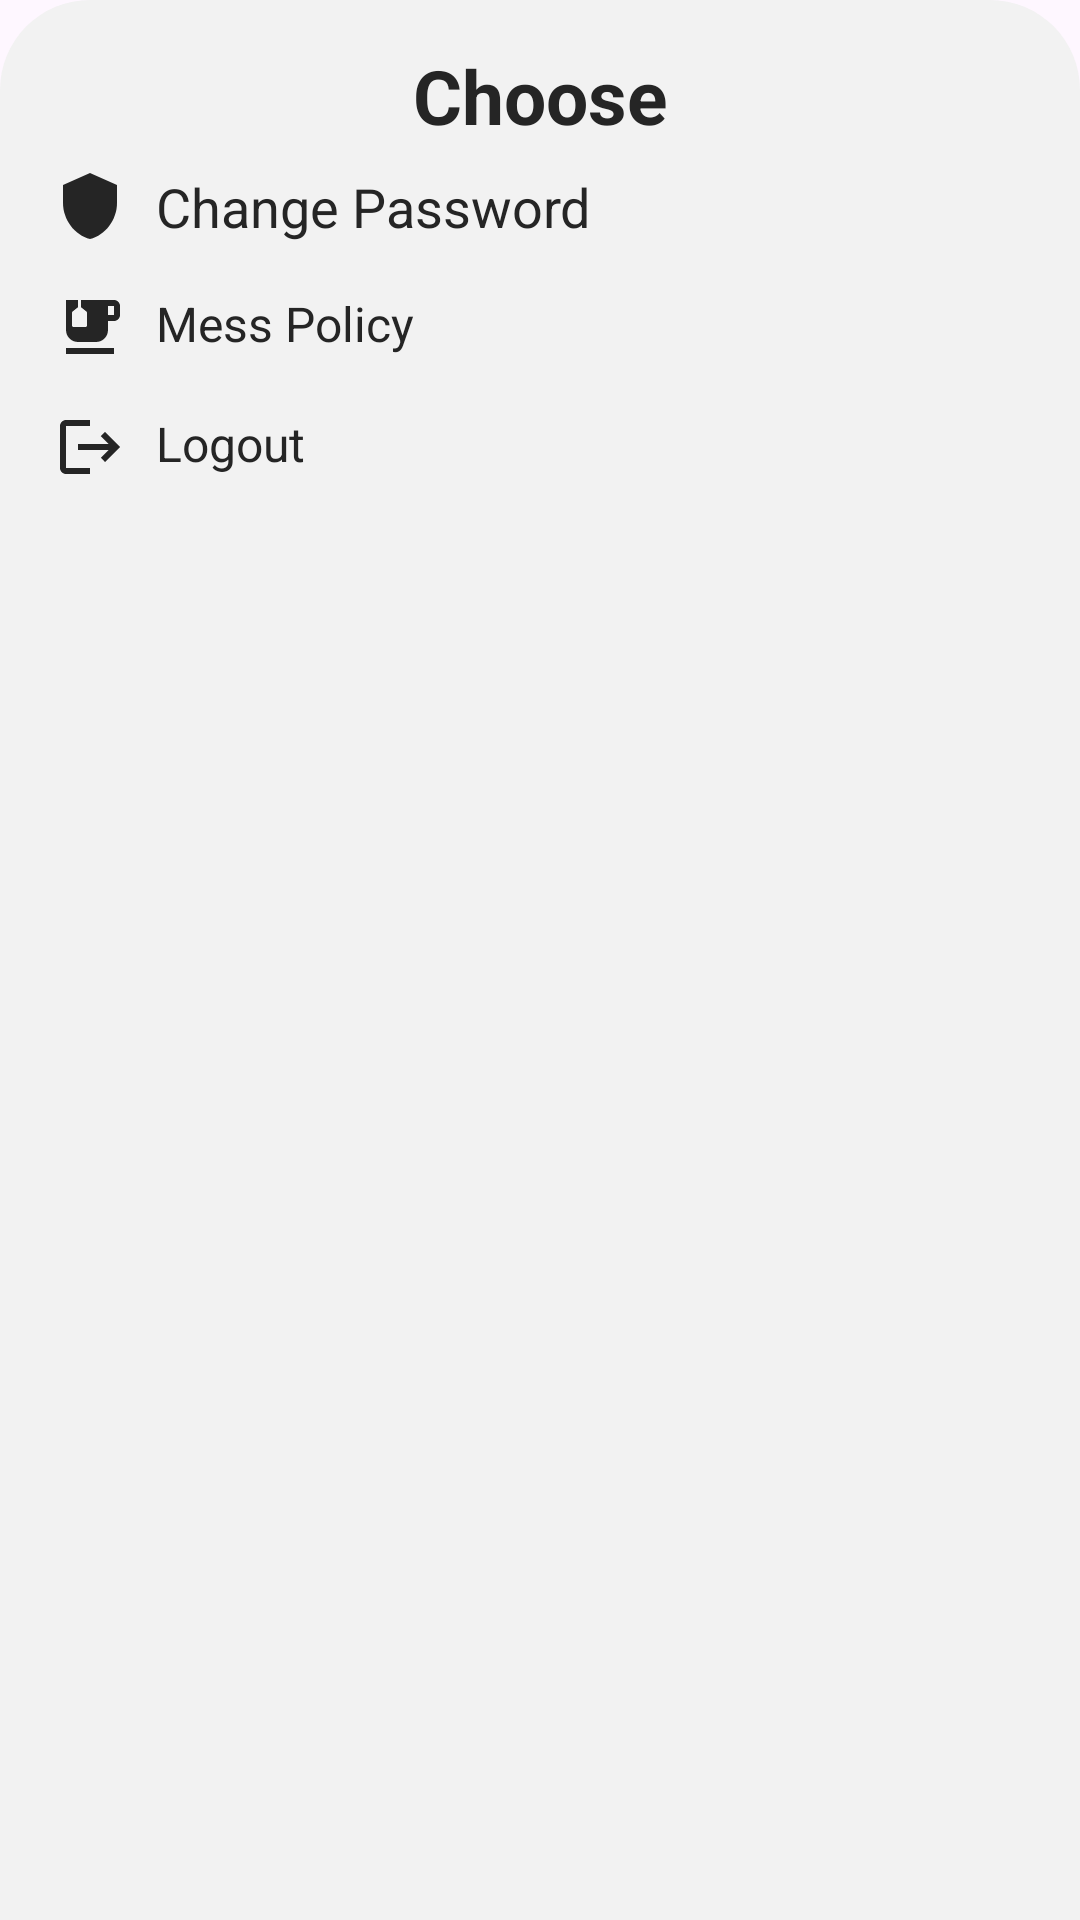

Icons on this 1080px×1920px Android screen, each with its box as [x1, y1, x2, y2]:
security: [63, 173, 117, 239]
